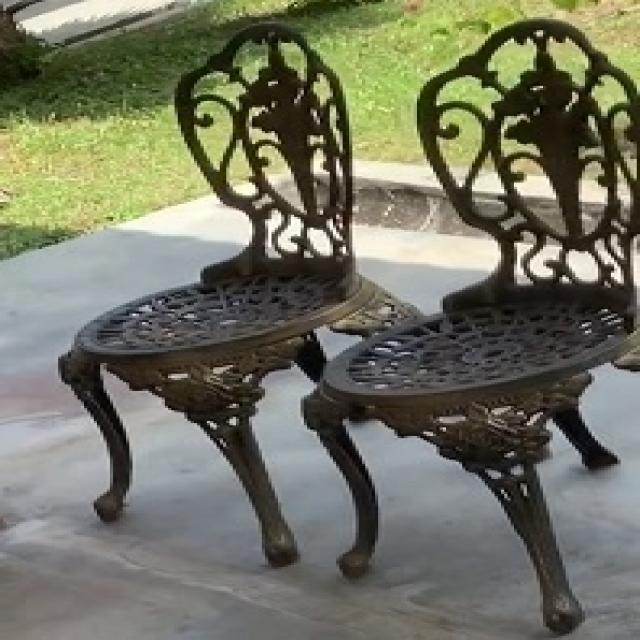Chair: (297, 17, 637, 636), (58, 22, 362, 569)
